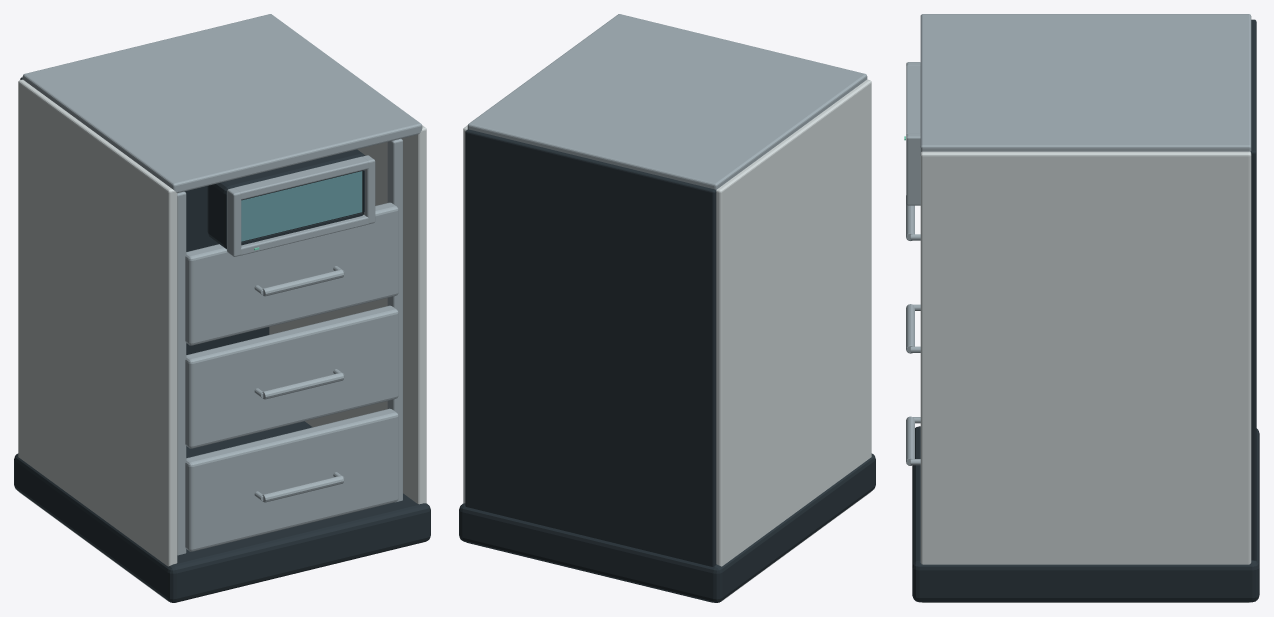
File: SC_UPSRack.fbx
The picture shows the model from 3 angles, left to right: view 1: azimuth 30°, elevation 25°; view 2: azimuth 150°, elevation 25°; view 3: azimuth 270°, elevation 25°; orthographic projection. The views are drawn at different scales.
Parts seen in each view (by area): view 1: SC_UPSRack; view 2: SC_UPSRack; view 3: SC_UPSRack.
Boxes of the visible parts, left/top/right/bottom form: SC_UPSRack: left=14, top=14, right=430, bottom=602; SC_UPSRack: left=459, top=14, right=875, bottom=602; SC_UPSRack: left=904, top=14, right=1259, bottom=602.
Bounding box in the file's own units: 80 × 122 × 85.9.
